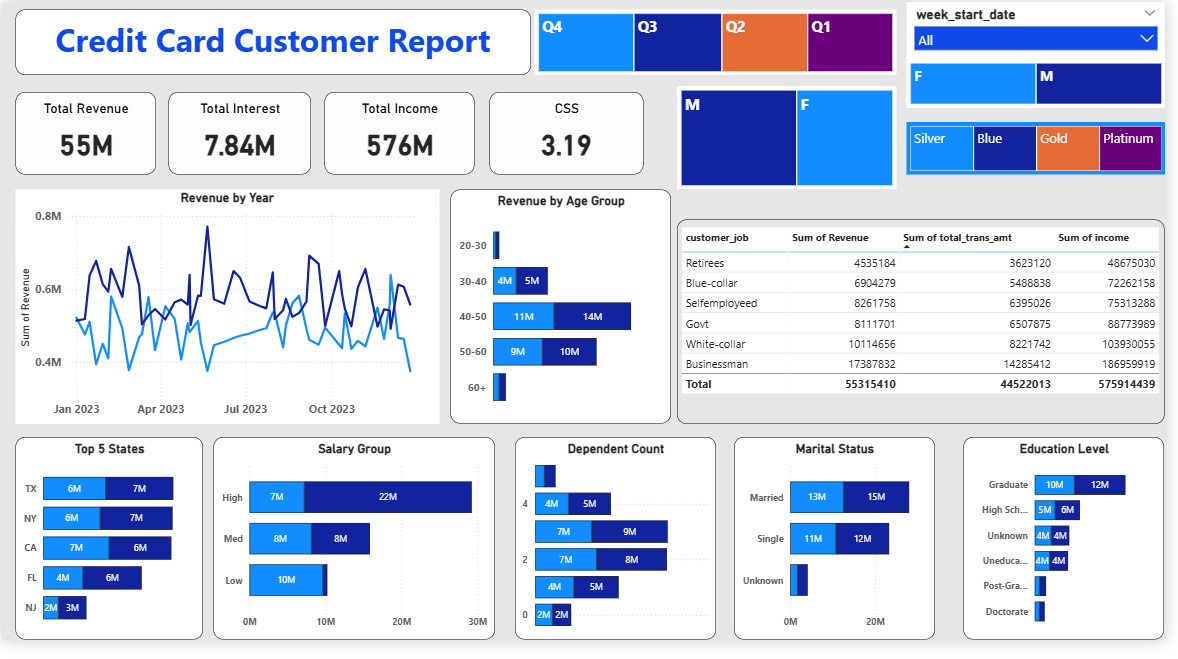

The page's visual inventory and layout, read from the dashboard file:
{"tool":"powerbi","page":{"name":"cc_report","canvas":[1550,850],"ordinal":1},"visuals":[{"type":"textbox","box":[17.5,10,687.5,87.5],"z":0},{"type":"barChart","title":"Salary Group","fields":{"Category":["public cust_detail.IncomeGroup"],"Series":["public cust_detail.gender"],"Y":["Sum(public cc_detail.Revenue)"]},"box":[282.5,580,375,270],"z":1000},{"type":"tableEx","fields":{"Values":["public cust_detail.customer_job","Sum(public cc_detail.Revenue)","Sum(public cc_detail.total_trans_amt)","Sum(public cust_detail.income)"]},"box":[900,290,650,272.5],"z":2000},{"type":"card","title":"Total Interest","fields":{"Values":["Sum(public cc_detail.interest_earned)"]},"box":[222.5,120,190,110],"z":3000},{"type":"card","title":" Total Income","fields":{"Values":["Sum(public cust_detail.income)"]},"box":[430,120,200,110],"z":4000},{"type":"card","title":"CSS","fields":{"Values":["Avg(public cust_detail.cust_satisfaction_score)"]},"box":[650,120,205,110],"z":5000},{"type":"slicer","fields":{"Values":["public cc_detail.week_start_date"]},"box":[1205,0,345,77.5],"z":6000},{"type":"treemap","fields":{"Group":["public cc_detail.qtr"],"Values":["Avg(public cc_detail.client_num)"]},"box":[710,10,482.5,87.5],"z":7000},{"type":"treemap","fields":{"Group":["public cust_detail.gender"],"Values":["Avg(public cc_detail.client_num)"]},"box":[1205,75,345,65],"z":8000},{"type":"treemap","fields":{"Group":["public cc_detail.card_category"],"Values":["Avg(public cc_detail.client_num)"]},"box":[1205,160,345,70],"z":9000},{"type":"card","title":"Total Revenue","fields":{"Values":["Sum(public cc_detail.Revenue)"]},"box":[17.5,120,187.5,110],"z":10000},{"type":"lineChart","title":" Revenue by Year","fields":{"Category":["public cc_detail.week_start_date.Variation.Date Hierarchy.Year","public cc_detail.week_start_date.Variation.Date Hierarchy.Month","public cc_detail.week_start_date.Variation.Date Hierarchy.Day"],"Series":["public cust_detail.gender"],"Y":["Sum(public cc_detail.Revenue)"]},"box":[17.5,250,565,312.5],"z":11000},{"type":"treemap","fields":{"Group":["public cust_detail.gender"],"Values":["Sum(public cc_detail.Revenue)"]},"box":[900,112.5,292.5,137.5],"z":12000},{"type":"barChart","title":"Revenue by Age Group","fields":{"Category":["public cust_detail.AgeGroup"],"Series":["public cust_detail.gender"],"Y":["Sum(public cc_detail.Revenue)"]},"box":[598,250,294,312],"z":13000},{"type":"barChart","title":"Dependent Count","fields":{"Category":["public cust_detail.dependent_count"],"Series":["public cust_detail.gender"],"Y":["Sum(public cc_detail.Revenue)"]},"box":[684,580,268,270],"z":14000},{"type":"barChart","title":"Education Level","fields":{"Category":["public cust_detail.education_level"],"Series":["public cust_detail.gender"],"Y":["Sum(public cc_detail.Revenue)"]},"box":[1282.5,580,267.5,270],"z":15000},{"type":"barChart","title":"Top 5 States","fields":{"Category":["public cust_detail.state_cd"],"Series":["public cust_detail.gender"],"Y":["Sum(public cc_detail.Revenue)"]},"box":[17.5,580,250,270],"z":16000},{"type":"barChart","title":"Marital Status","fields":{"Category":["public cust_detail.marital_status"],"Series":["public cust_detail.gender"],"Y":["Sum(public cc_detail.Revenue)"]},"box":[976,580,268,270],"z":17000}]}

Visuals, with their boxes in screenshot pixels (x1, y1, x2, y2), scaled from the page's 1550x850 canvas onto the 1178x659 screenshot:
textbox: 13/8/536/76
"Salary Group" barChart: 215/450/500/658
tableEx - public cust_detail.customer_job x Sum(public cc_detail.Revenue): 684/225/1177/436
"Total Interest" card: 169/93/314/178
" Total Income" card: 327/93/479/178
"CSS" card: 494/93/650/178
slicer - public cc_detail.week_start_date: 916/0/1177/60
treemap - public cc_detail.qtr x Avg(public cc_detail.client_num): 540/8/906/76
treemap - public cust_detail.gender x Avg(public cc_detail.client_num): 916/58/1177/109
treemap - public cc_detail.card_category x Avg(public cc_detail.client_num): 916/124/1177/178
"Total Revenue" card: 13/93/156/178
" Revenue by Year" lineChart: 13/194/443/436
treemap - public cust_detail.gender x Sum(public cc_detail.Revenue): 684/87/906/194
"Revenue by Age Group" barChart: 454/194/678/436
"Dependent Count" barChart: 520/450/724/658
"Education Level" barChart: 975/450/1177/658
"Top 5 States" barChart: 13/450/203/658
"Marital Status" barChart: 742/450/945/658
